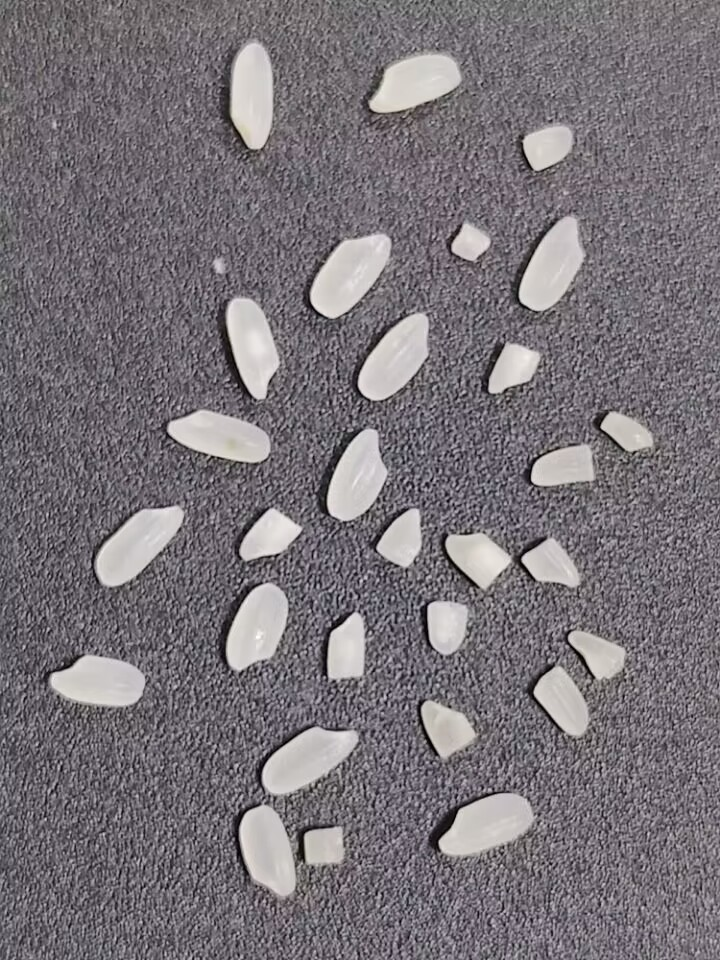broken: (234, 503, 308, 567), (533, 665, 590, 737), (445, 531, 511, 589), (323, 609, 369, 683), (485, 342, 543, 400), (421, 700, 475, 758), (521, 537, 580, 589), (520, 123, 578, 175), (568, 629, 626, 680), (375, 507, 423, 568), (529, 444, 595, 486), (600, 411, 655, 452), (427, 600, 468, 655), (448, 222, 493, 264), (304, 826, 345, 866)
rice: (258, 720, 365, 799), (90, 503, 187, 590), (515, 209, 589, 314), (436, 790, 539, 860), (310, 233, 391, 319), (222, 579, 291, 676), (165, 406, 273, 465), (357, 313, 430, 399), (224, 295, 282, 403), (366, 53, 463, 117), (327, 427, 388, 521), (46, 654, 148, 710), (238, 804, 296, 897), (227, 41, 275, 153)
